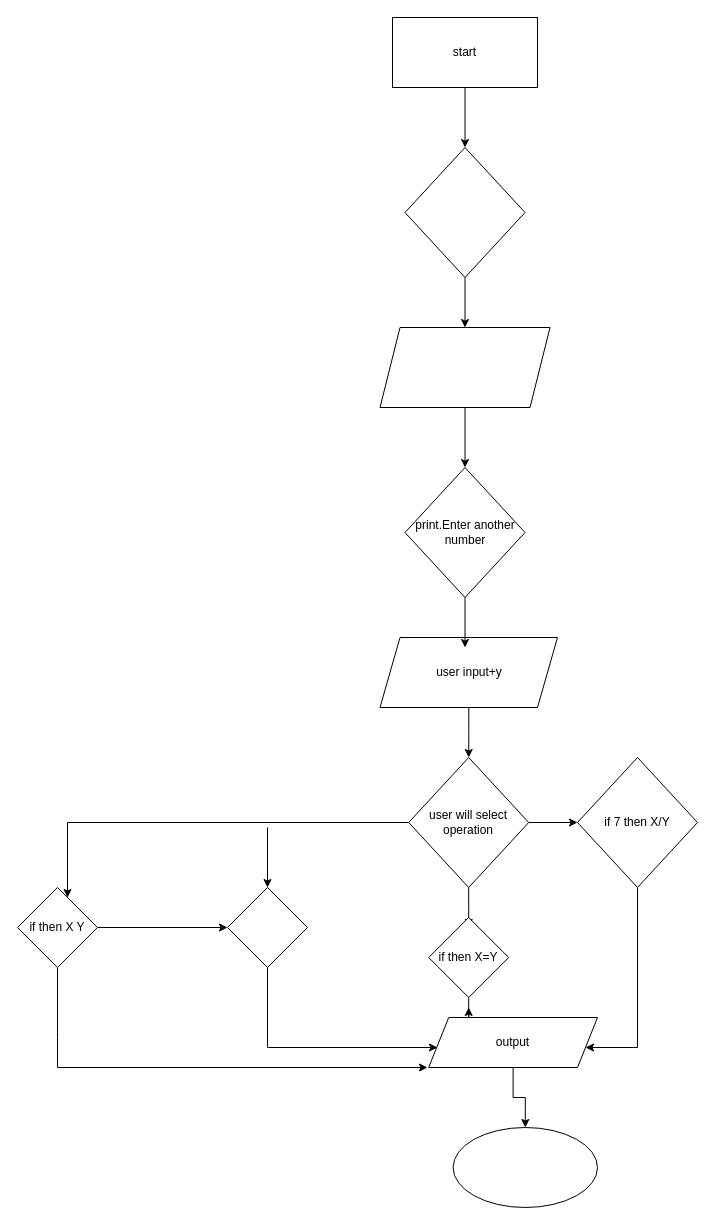
Some shapes in this 715 by 1225 pixel diagram are drawn without their labels. Here are the shapes that lost their labels. From the top down, the centre of each, then its label:
At [464,212]: "print please enter number".
At [464,367]: "user number".
At [267,927]: "if # then X#Y".
At [525,1167]: "end".
